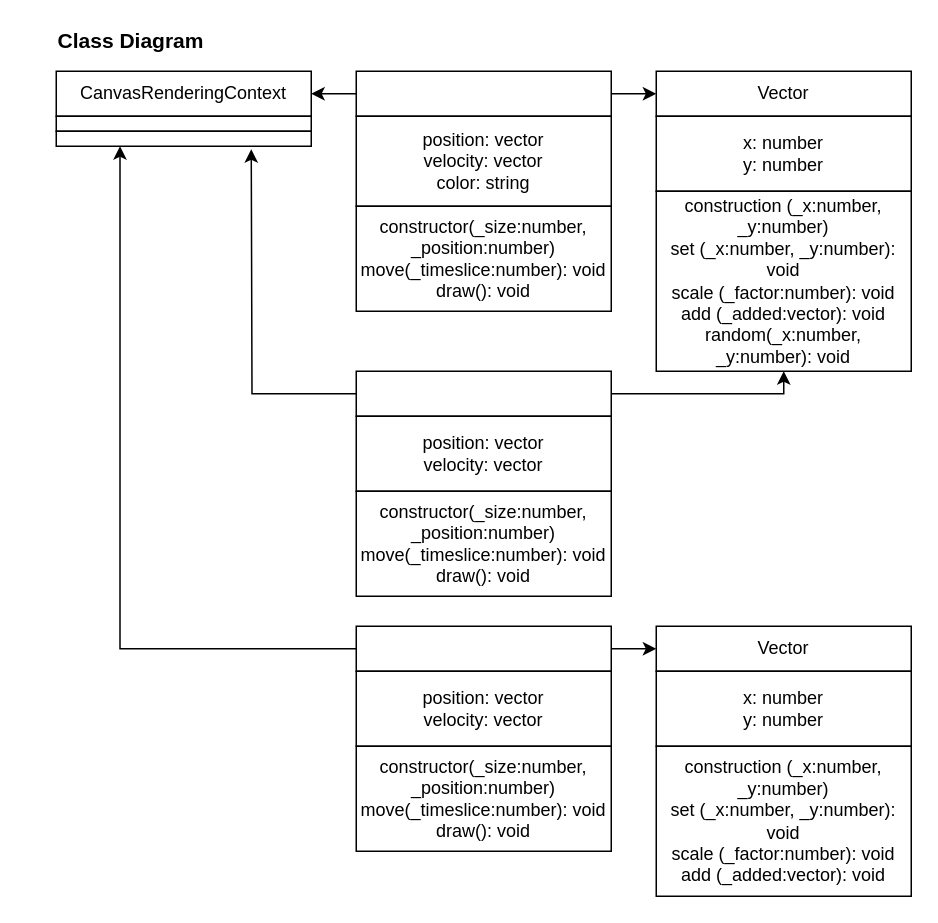
The diagram is 938 pixels wide and 923 high, and some of its shapes have lost their labels. Each missing label, with the centre of its shape:
Lift: point (483, 648)
Schnee: point (483, 393)
Skifahrer: point (483, 93)
